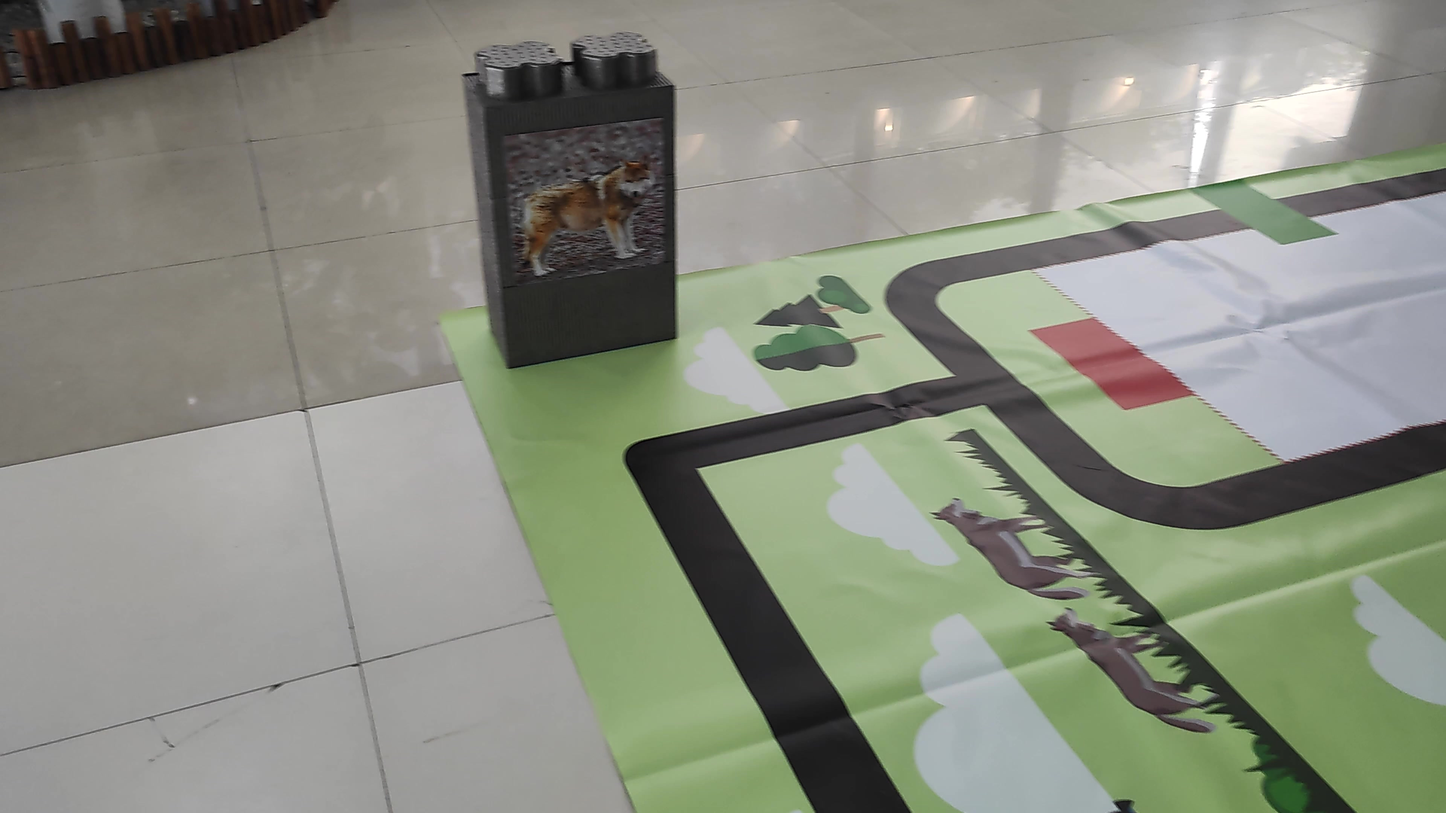wolf: (509, 139, 667, 284)
